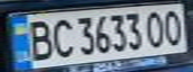3: (72, 14, 96, 56), (109, 11, 130, 53), (124, 10, 145, 51)
6: (93, 12, 112, 55)
B: (21, 17, 54, 62)
C: (48, 16, 75, 58)
O: (160, 7, 190, 46), (142, 8, 169, 48)
